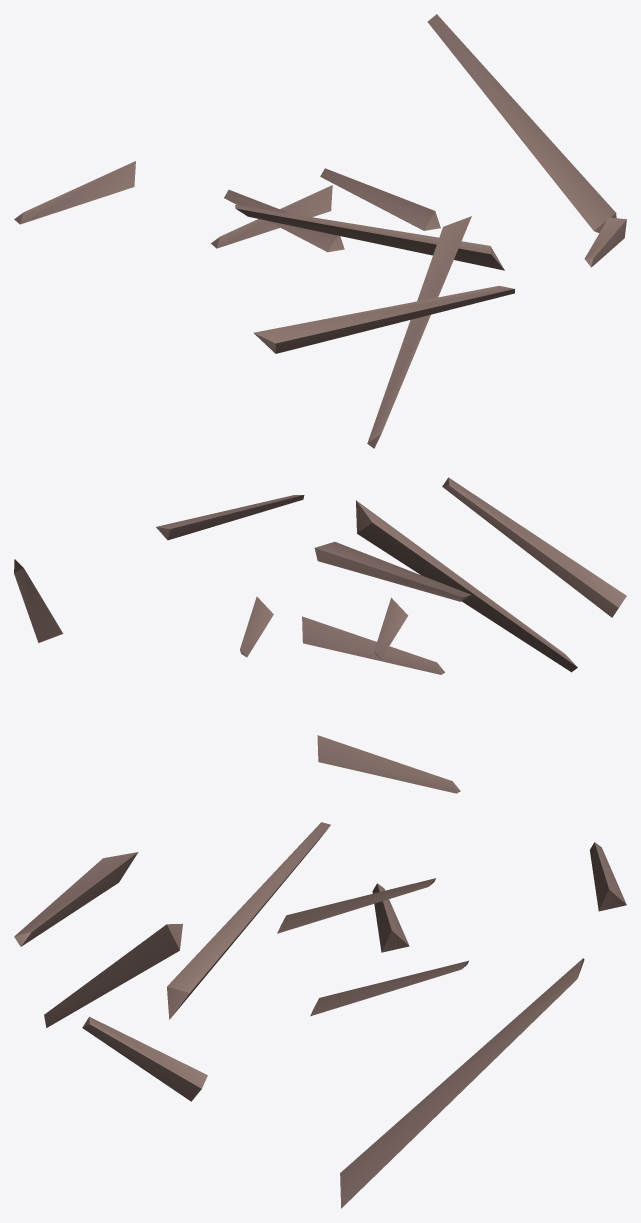
Rendered from sm_ground_stucks.fbx.
The picture shows the model from 3 angles, top to bottom: view 1: azimuth 30°, elevation 25°; view 2: azimuth 150°, elevation 25°; view 3: azimuth 270°, elevation 25°; orthographic projection. The views are drawn at different scales.
Visible parts, largest first — view 1: sm_ground_stucks; view 2: sm_ground_stucks; view 3: sm_ground_stucks.
Part boxes in pixels (bbox=[...]): sm_ground_stucks: bbox=[14, 14, 626, 448]; sm_ground_stucks: bbox=[14, 477, 626, 793]; sm_ground_stucks: bbox=[14, 822, 626, 1208].
Size of the model in its own units: 69.09 by 179 by 161.
